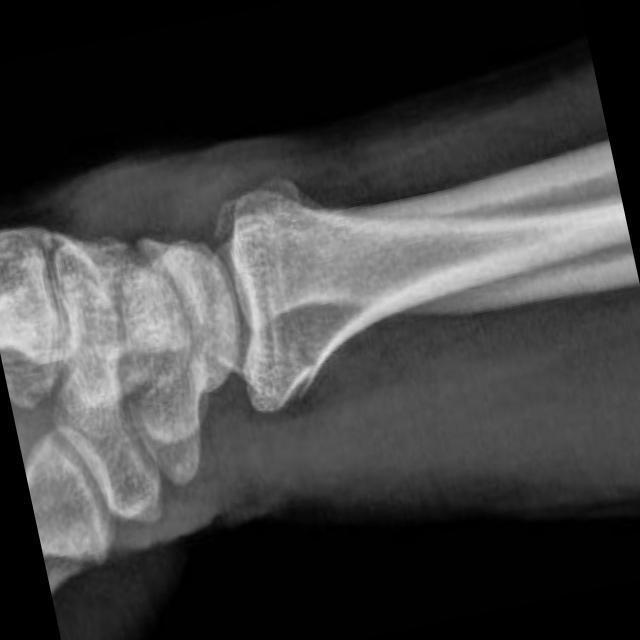bone: (166, 129, 514, 426)
